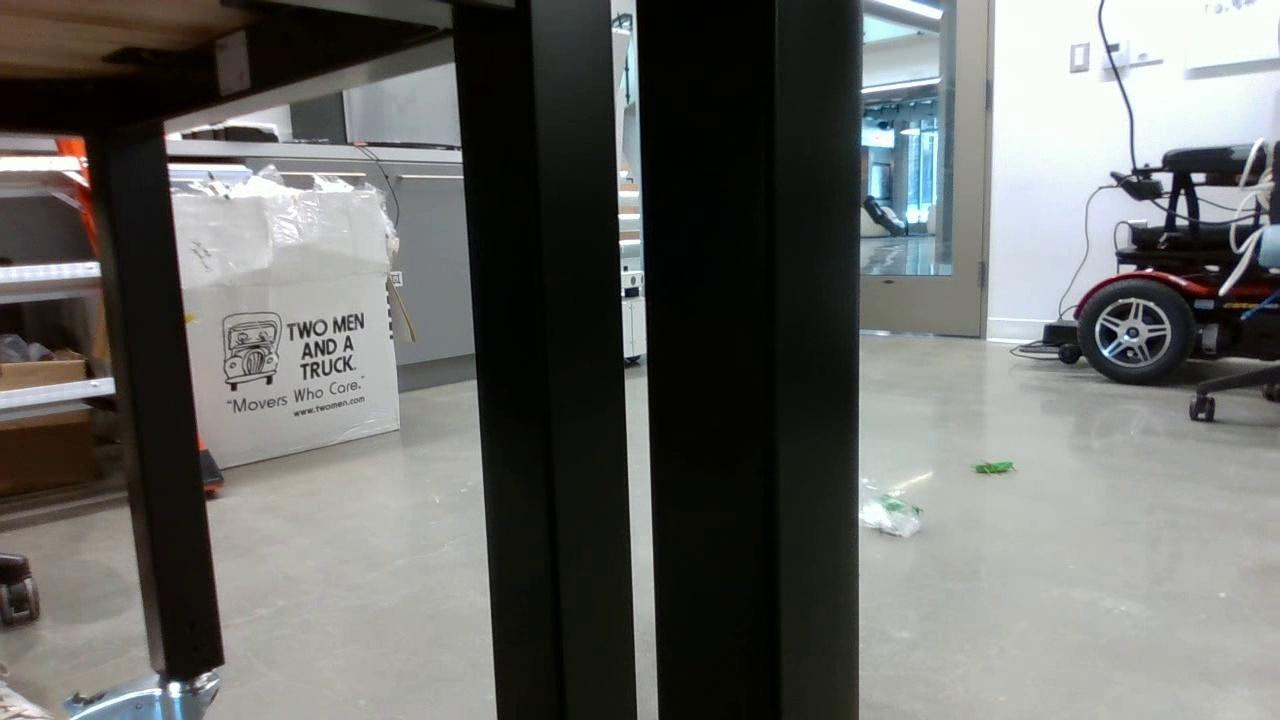grasshopper: (878, 494, 924, 519), (970, 461, 1011, 477)
